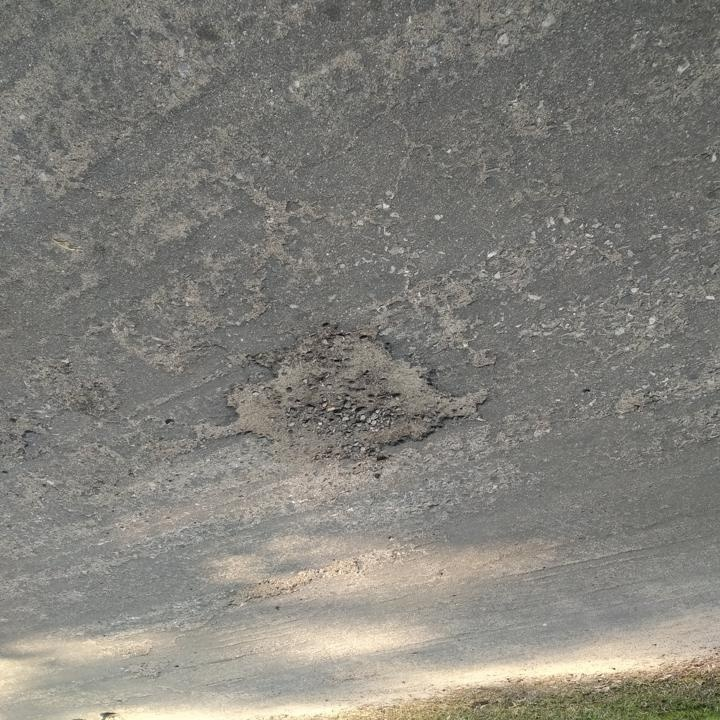pothole: (190, 328, 493, 467)
